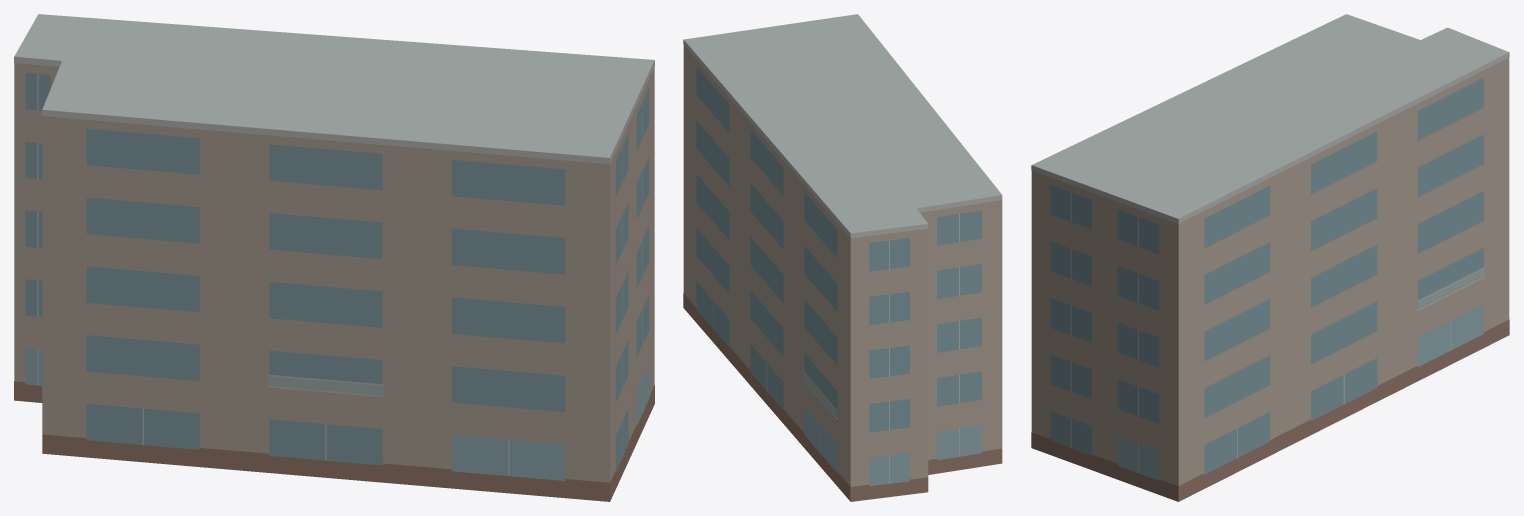
The model's file is survey-upis-32953327.glb.
The picture shows the model from 3 angles, left to right: view 1: azimuth 30°, elevation 25°; view 2: azimuth 150°, elevation 25°; view 3: azimuth 270°, elevation 25°; orthographic projection. The views are drawn at different scales.
Parts seen in each view (by area): view 1: survey-upis-32953327.tmp; view 2: survey-upis-32953327.tmp; view 3: survey-upis-32953327.tmp.
Boxes of the visible parts, box(x1,y1,x2,y2) form: survey-upis-32953327.tmp: box(14, 14, 654, 501); survey-upis-32953327.tmp: box(683, 14, 1002, 501); survey-upis-32953327.tmp: box(1031, 14, 1509, 501).
Size of the model in its own units: 20.83 by 13.4 by 20.52.
